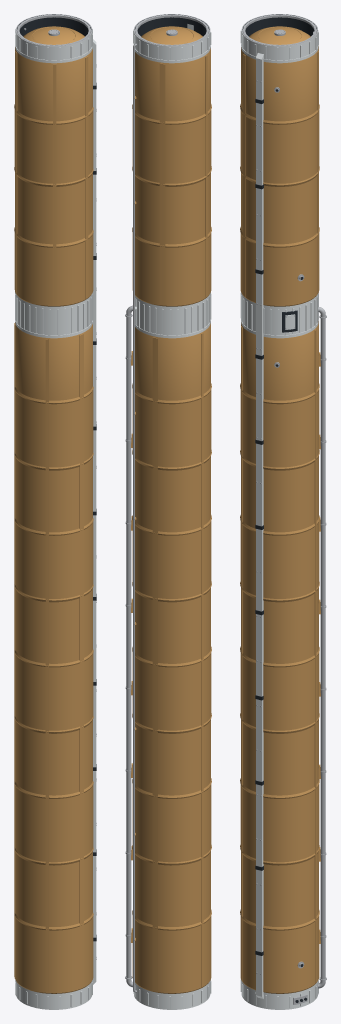
Rendered from tank_s1_xs_hydrolox.fbx.
The picture shows the model from 3 angles, left to right: view 1: azimuth 90°, elevation 25°; view 2: azimuth 150°, elevation 25°; view 3: azimuth 330°, elevation 25°; orthographic projection.
Visible parts, largest first — view 1: tank_s1_xs_hydrolox_LOD0; view 2: tank_s1_xs_hydrolox_LOD0; view 3: tank_s1_xs_hydrolox_LOD0.
Part boxes in pixels (box(x1,y1,x2,y2)): tank_s1_xs_hydrolox_LOD0: box(14, 14, 96, 1009); tank_s1_xs_hydrolox_LOD0: box(125, 14, 211, 1009); tank_s1_xs_hydrolox_LOD0: box(240, 14, 326, 1009).
Size of what is drawn, in the model's own units: 1.6 by 20.8 by 1.62.
